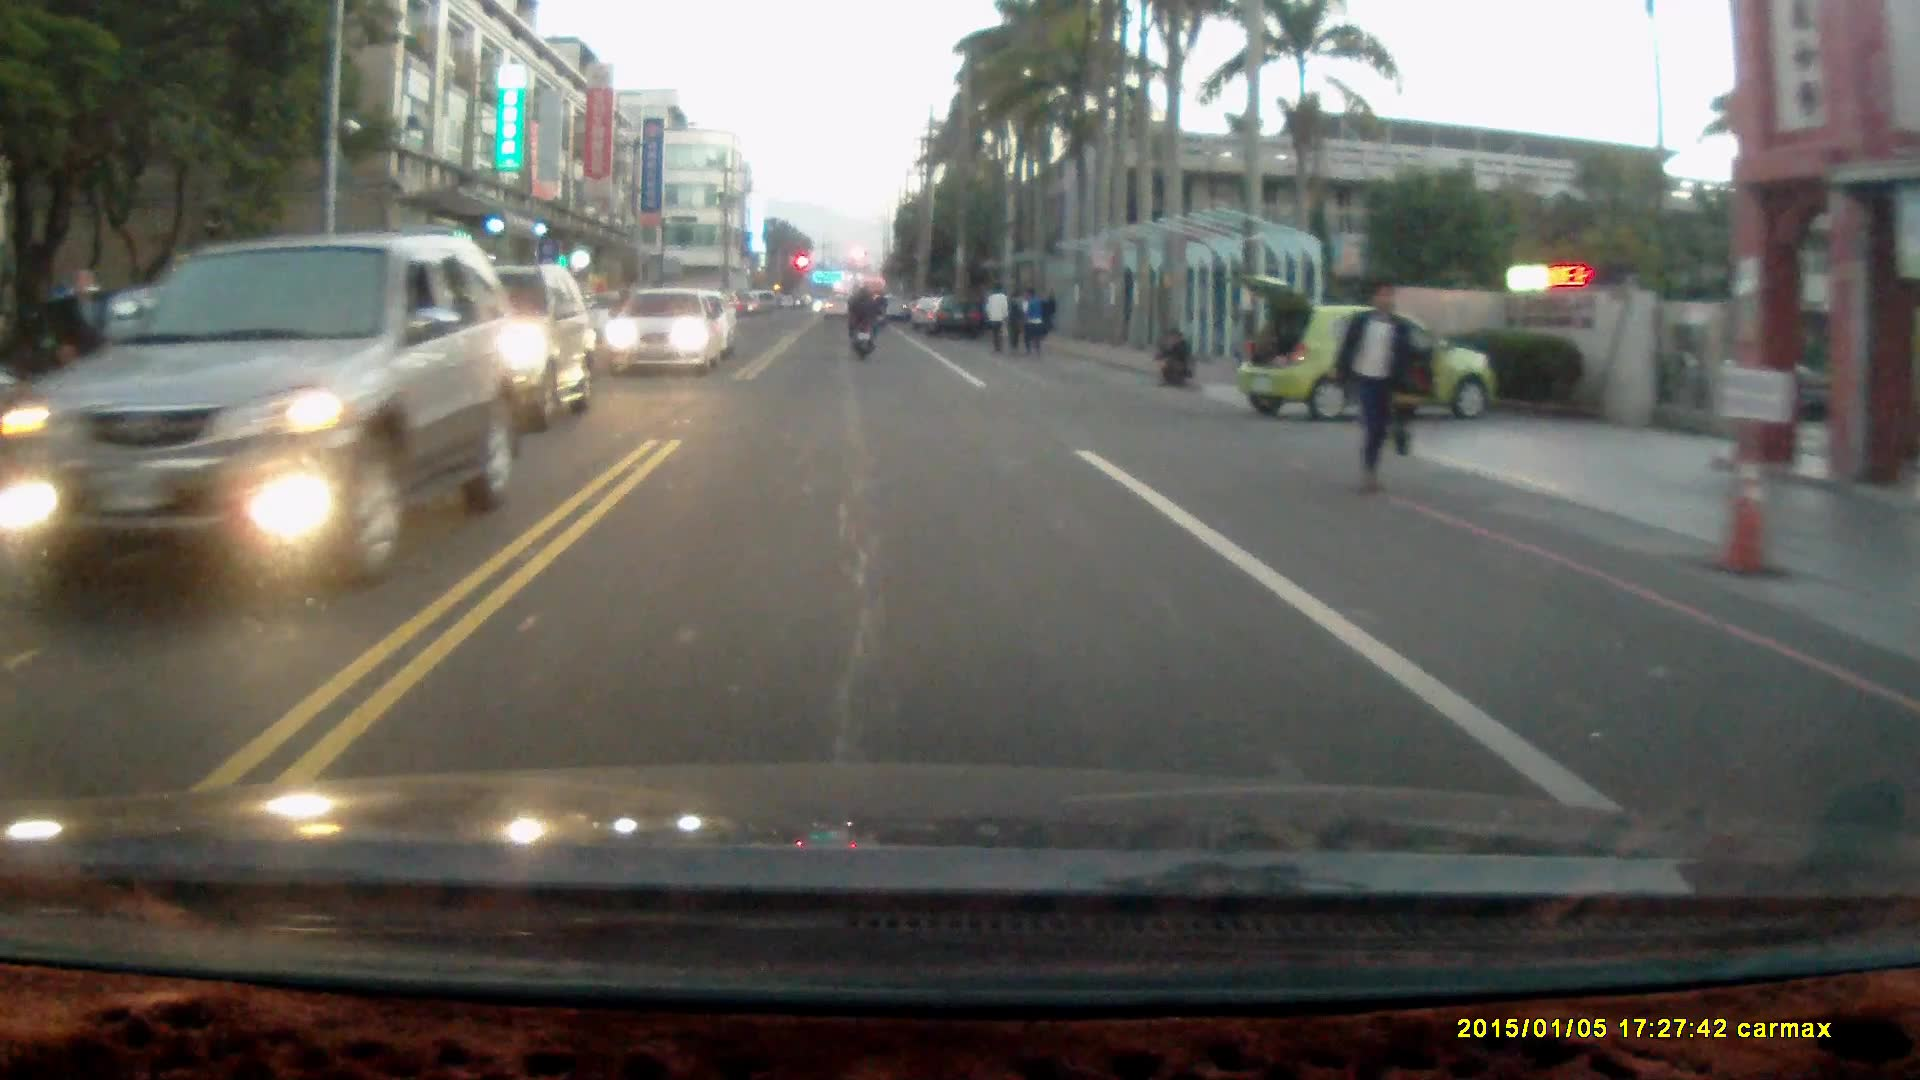pedestrian: (1333, 278, 1421, 502), (1155, 324, 1193, 388), (1020, 281, 1048, 359), (988, 283, 1012, 359), (1004, 285, 1028, 354)
rider: (842, 281, 880, 359)
vehicle: (20, 230, 515, 598), (1231, 269, 1501, 420), (376, 259, 601, 433), (609, 282, 722, 371), (931, 295, 988, 340)
